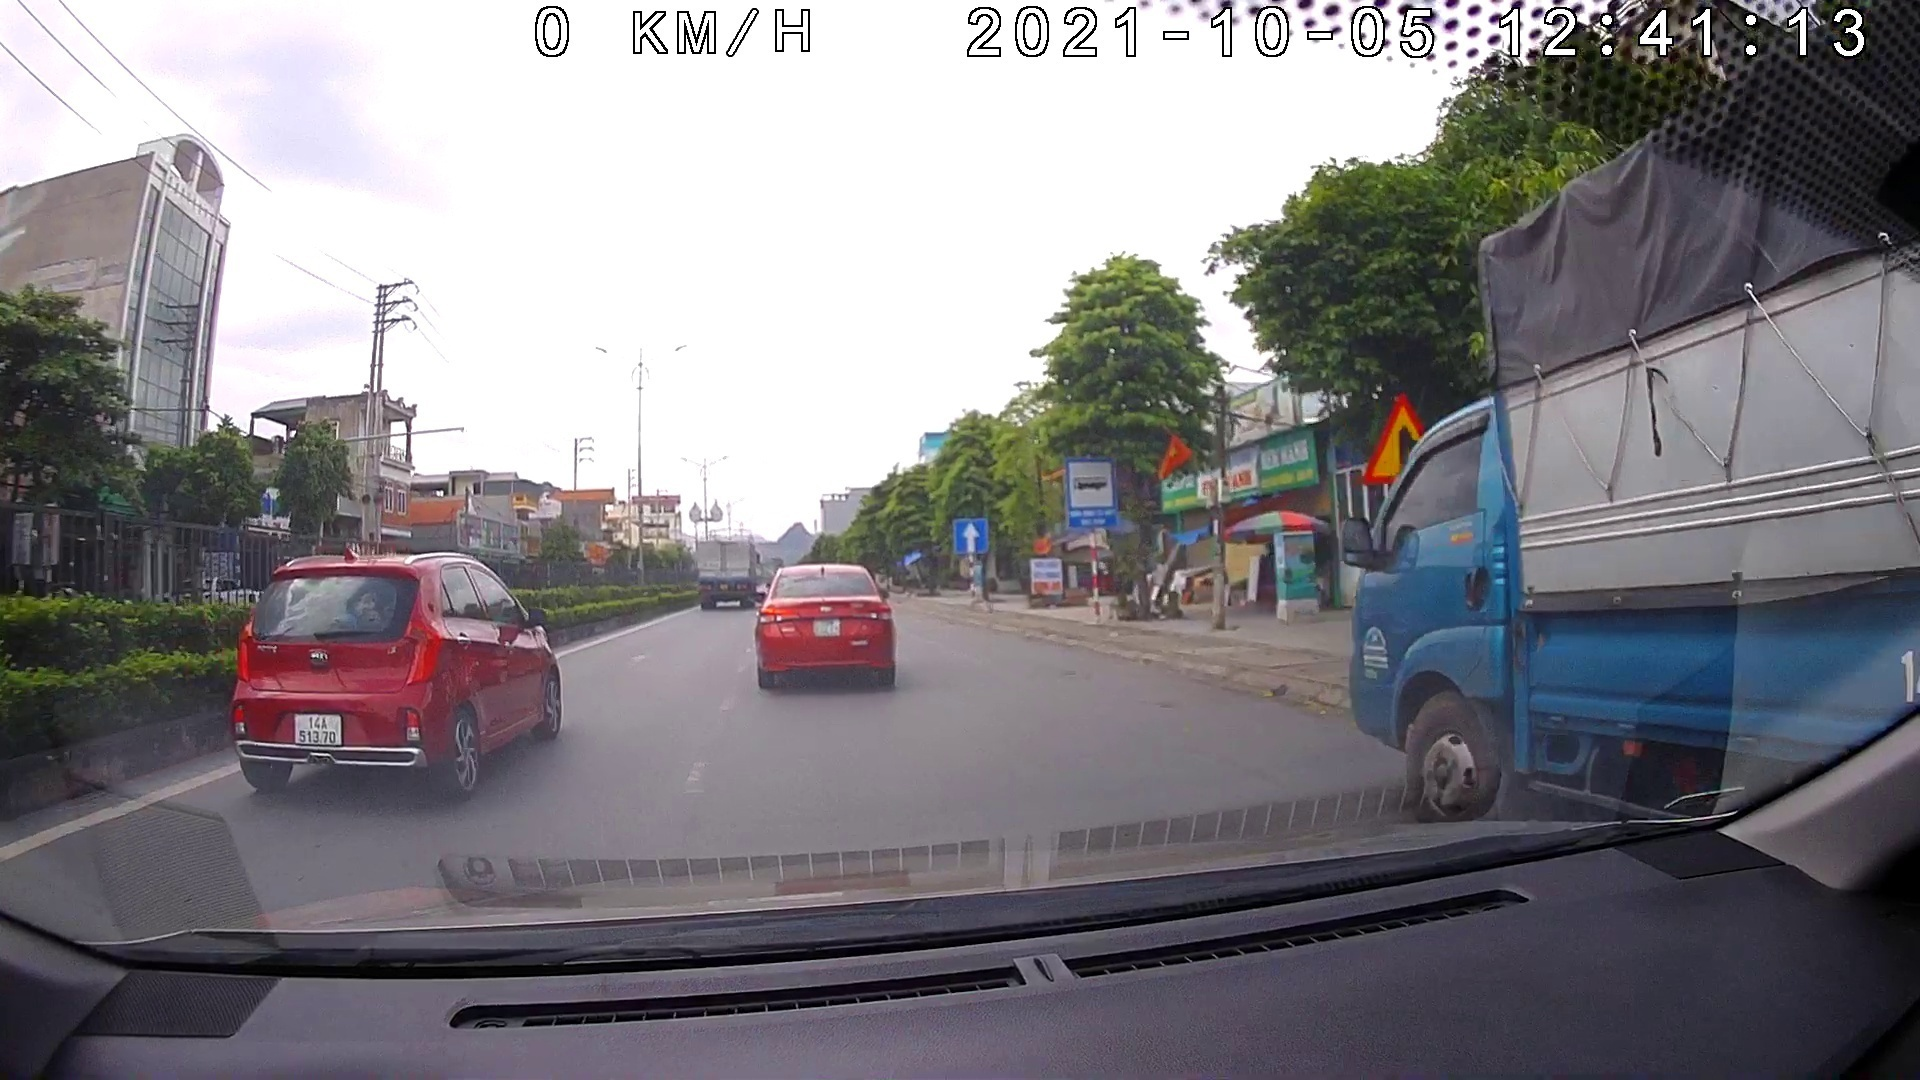Bien khac: (1064, 454, 1120, 531), (951, 520, 982, 553)
